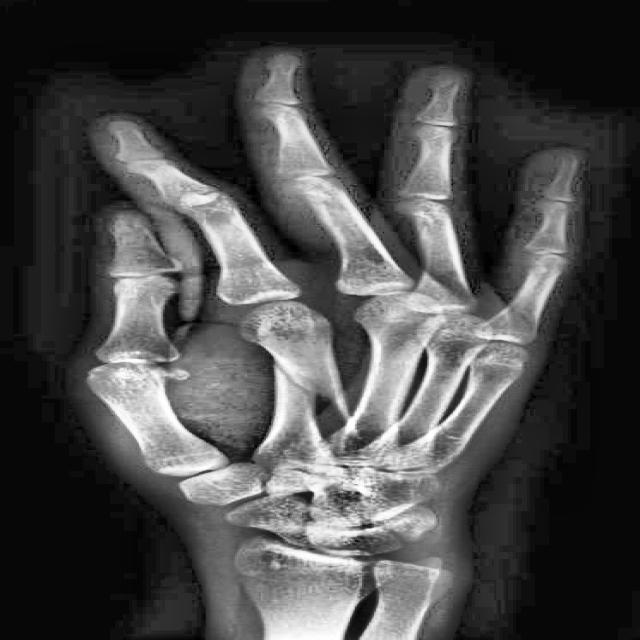fracture: (264, 357, 318, 407)
